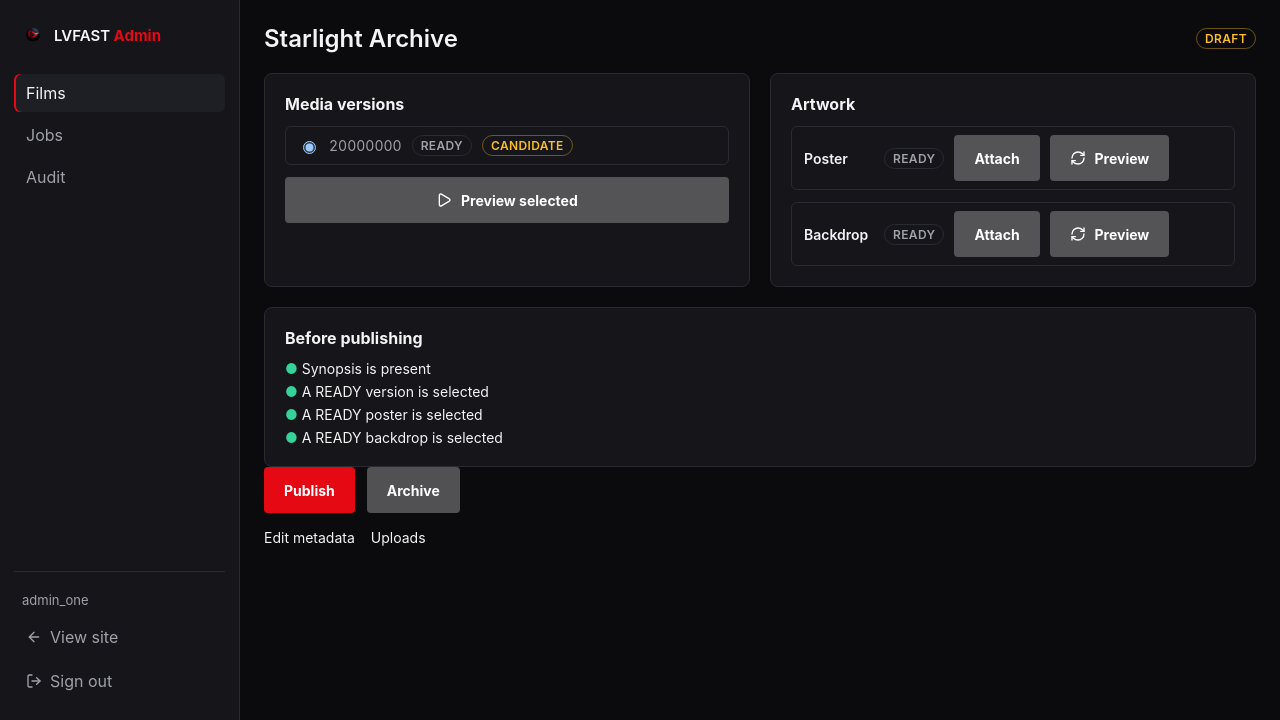
Test case: movie review › requires explicit confirmation before publishing and reloads authoritative state
Click the button "Publish".
click(309, 490)  # box left=264, top=467, right=355, bottom=513
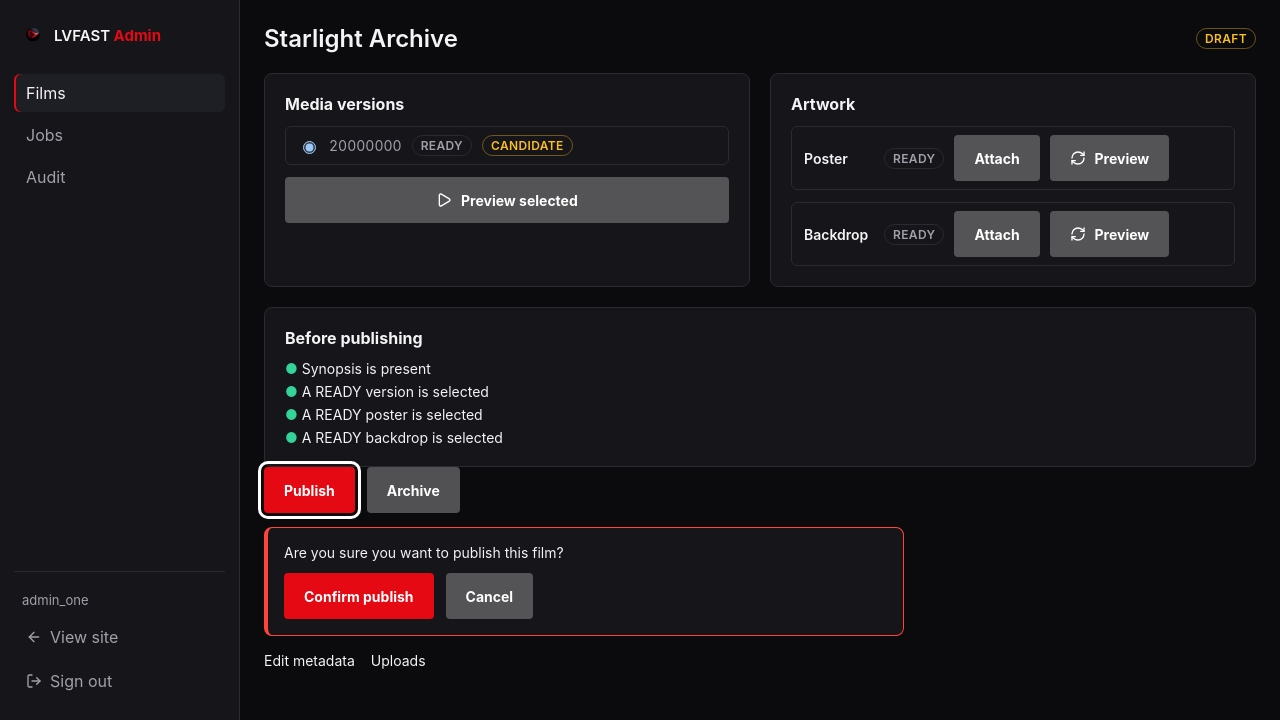
Click the button "Confirm publish".
click(359, 596)  # box left=284, top=573, right=434, bottom=619
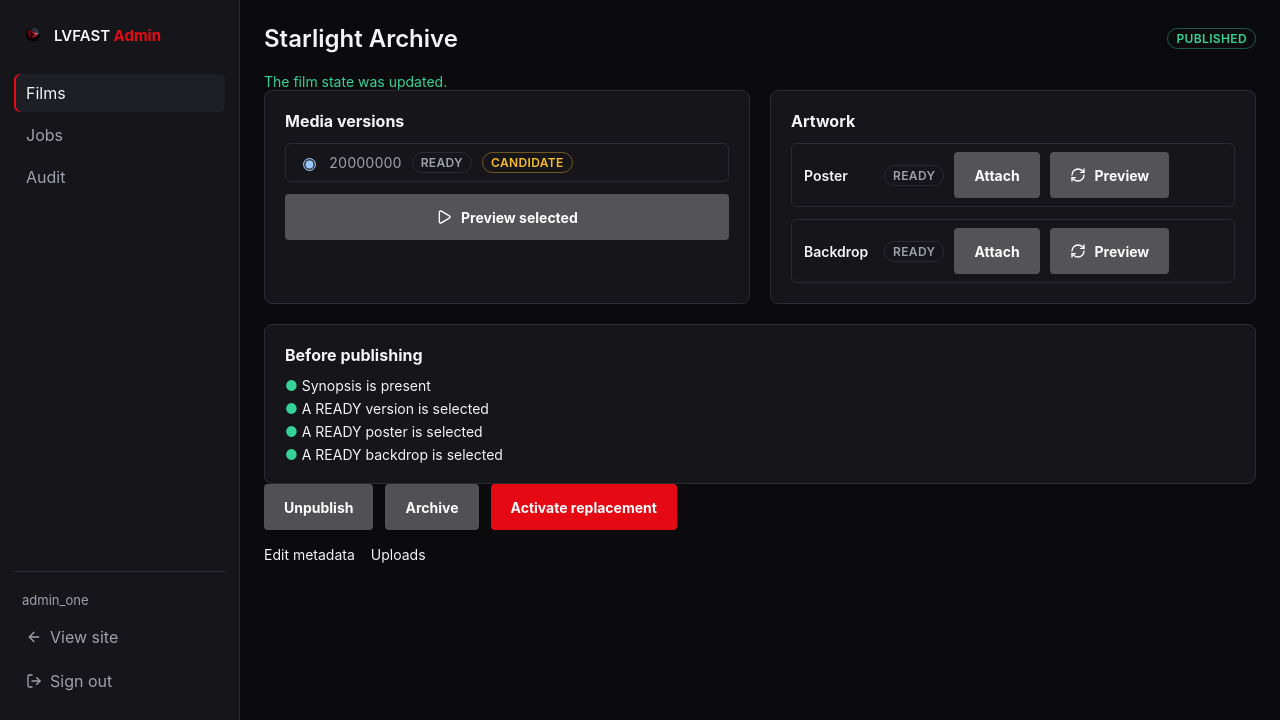
Check: the message shows "updated", box left=264, top=73, right=447, bottom=90
